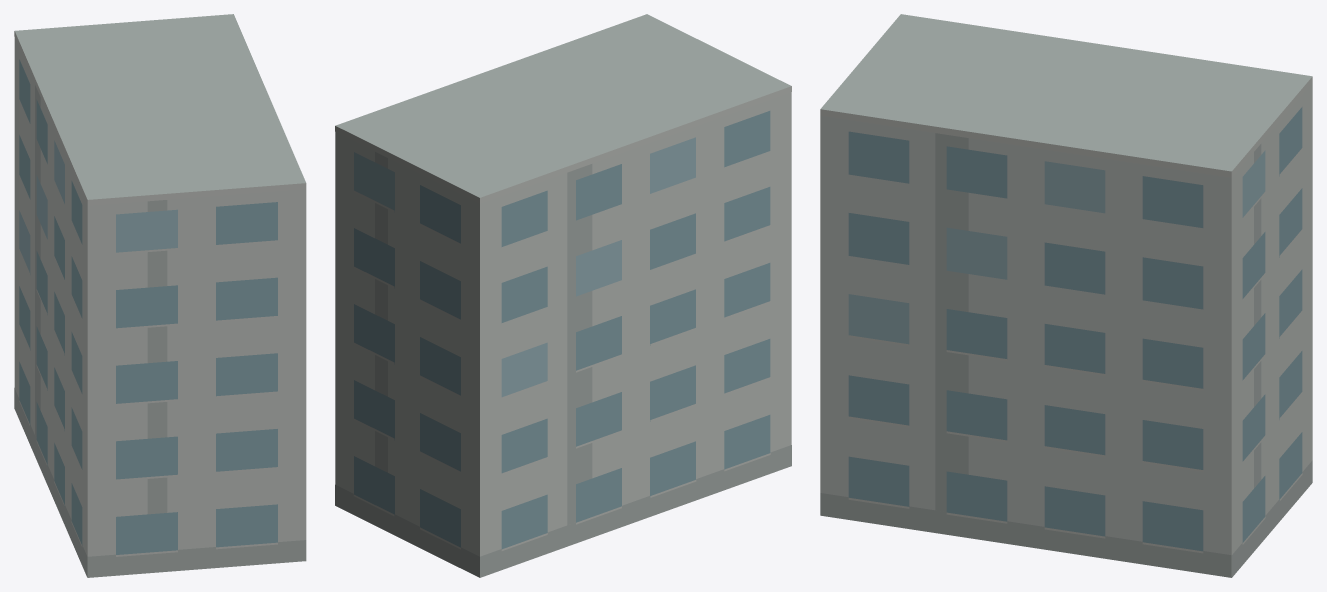
Rendered from residential-2aed967f-c584-4b65-b532-21d90c0b2261.glb.
3 renders of one model, left to right at view 1: azimuth 30°, elevation 25°; view 2: azimuth 150°, elevation 25°; view 3: azimuth 270°, elevation 25°, orthographic. The views are drawn at different scales.
Visible parts, largest first — view 1: residential-2aed967f-c584-4b65-b532-21d90c0b2261.tmp; view 2: residential-2aed967f-c584-4b65-b532-21d90c0b2261.tmp; view 3: residential-2aed967f-c584-4b65-b532-21d90c0b2261.tmp.
Part boxes in pixels (<box>): residential-2aed967f-c584-4b65-b532-21d90c0b2261.tmp: <box>14,14,306,577</box>; residential-2aed967f-c584-4b65-b532-21d90c0b2261.tmp: <box>335,14,791,577</box>; residential-2aed967f-c584-4b65-b532-21d90c0b2261.tmp: <box>820,14,1312,577</box>.
Bounding box in the file's own units: 12.68 × 15.25 × 16.75.
